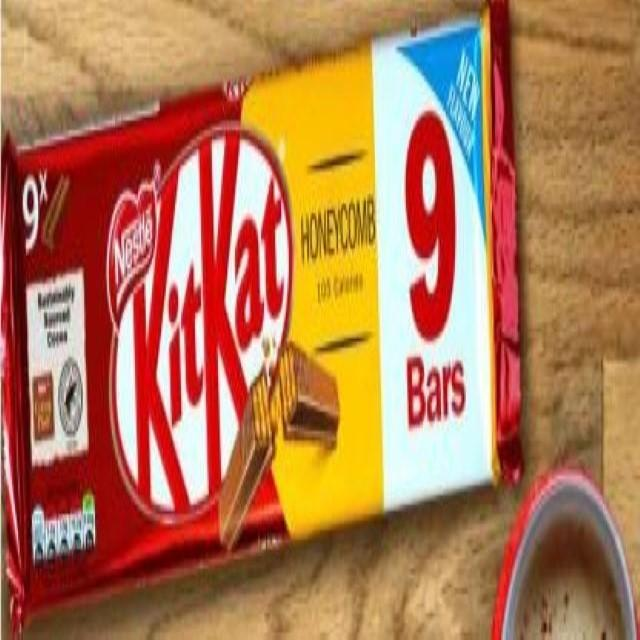snickers_chocolate: (18, 60, 562, 617), (0, 15, 613, 477)
